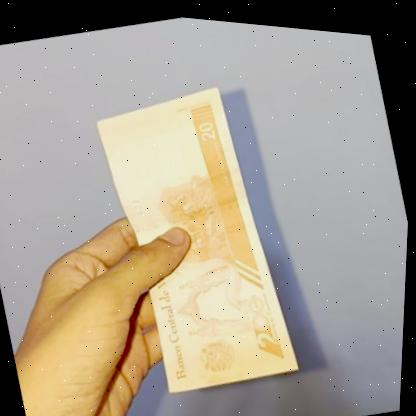twenty-back-vef: (85, 68, 310, 404)
